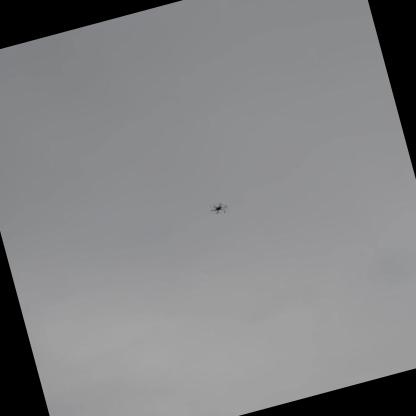drone: (205, 198, 228, 218)
